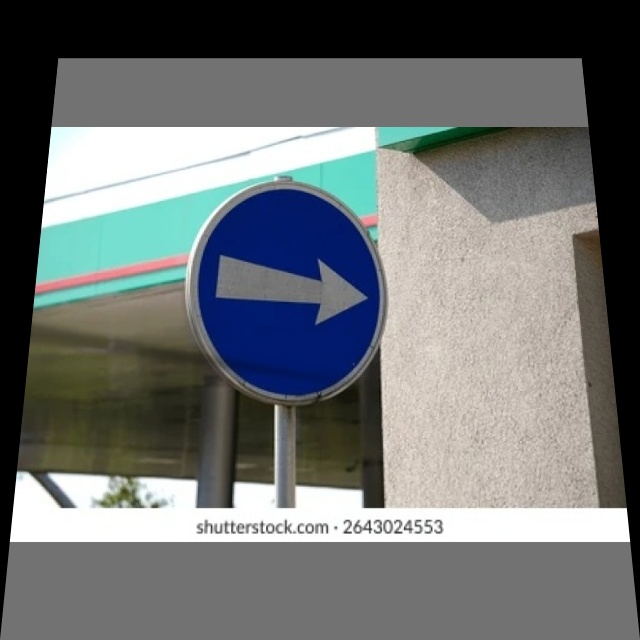Compulsory_Turn_Right: (186, 178, 396, 407)
